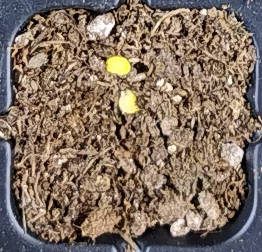pepper seed: (47, 32, 188, 146), (40, 17, 171, 93)
